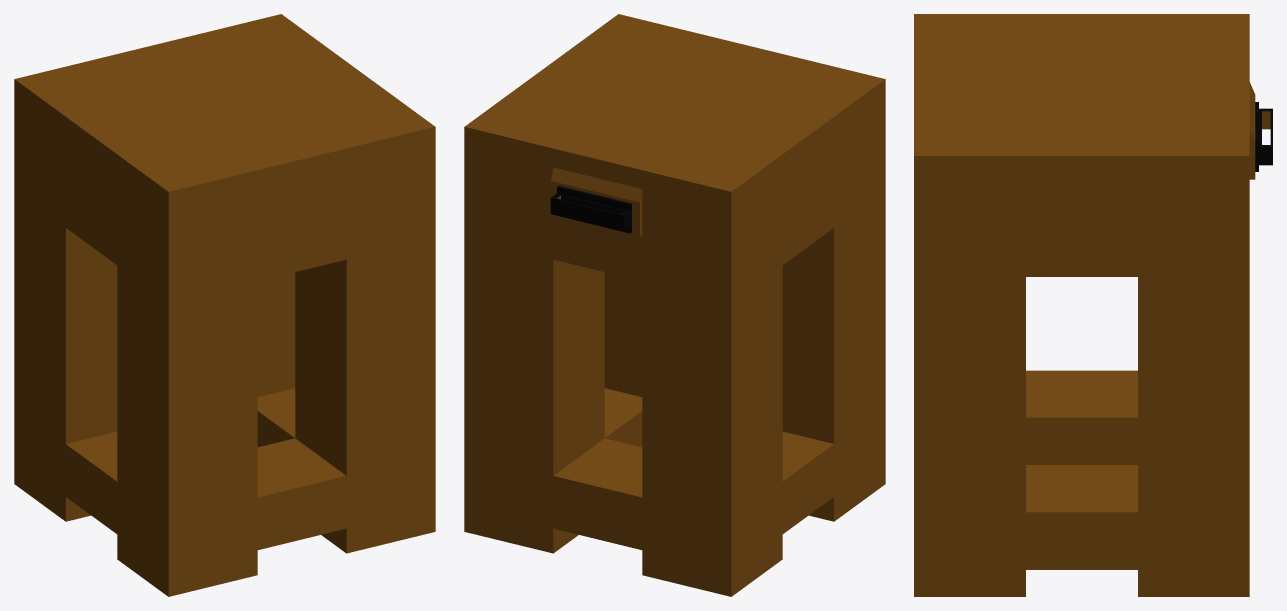
File: nightstand1.fbx
3 renders of one model, left to right at view 1: azimuth 30°, elevation 25°; view 2: azimuth 150°, elevation 25°; view 3: azimuth 270°, elevation 25°, orthographic. The views are drawn at different scales.
Parts seen in each view (by area): view 1: pCube3; view 2: pCube3; view 3: pCube3.
Boxes of the visible parts, x1,y1,x2,y2 form: pCube3: (14, 14, 435, 596); pCube3: (464, 14, 885, 596); pCube3: (914, 14, 1272, 596).
Bounding box in the file's own units: 1.66 × 2.41 × 1.78.
